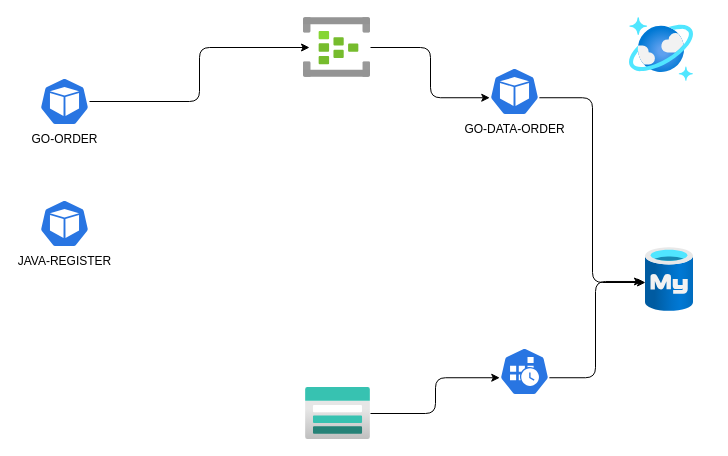
The diagram is 728 pixels wide and 456 high, and some of its shapes have lost their labels. The centre of each missing label's shape, as x and y in pixels:
"Azure Cosmos DB" belongs at (x=661, y=49).
"Event Hubs" belongs at (x=336, y=47).
